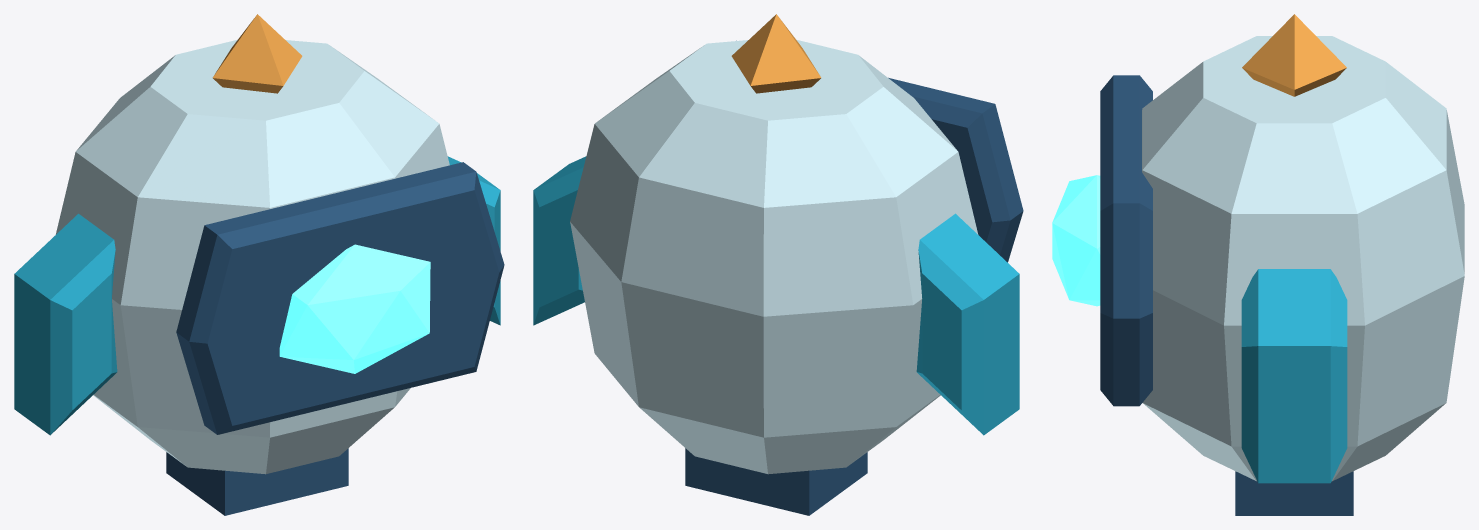
Rendered from helper.glb.
The picture shows the model from 3 angles, left to right: view 1: azimuth 30°, elevation 25°; view 2: azimuth 150°, elevation 25°; view 3: azimuth 270°, elevation 25°; orthographic projection.
Visible parts, largest first — view 1: body, fin_L, eye, fin_R; view 2: body, fin_L, fin_R; view 3: body, fin_R, eye.
Boxes of the visible parts, bbox=[...] form: body: bbox=[55, 14, 504, 515]; fin_L: bbox=[14, 213, 117, 435]; eye: bbox=[279, 244, 430, 373]; fin_R: bbox=[447, 156, 500, 325]; body: bbox=[570, 14, 1023, 515]; fin_L: bbox=[916, 213, 1019, 435]; fin_R: bbox=[533, 156, 586, 325]; body: bbox=[1100, 14, 1464, 515]; fin_R: bbox=[1241, 269, 1347, 483]; eye: bbox=[1052, 175, 1100, 306].
Size of the model in its own units: 8 by 7.9 by 6.27.
